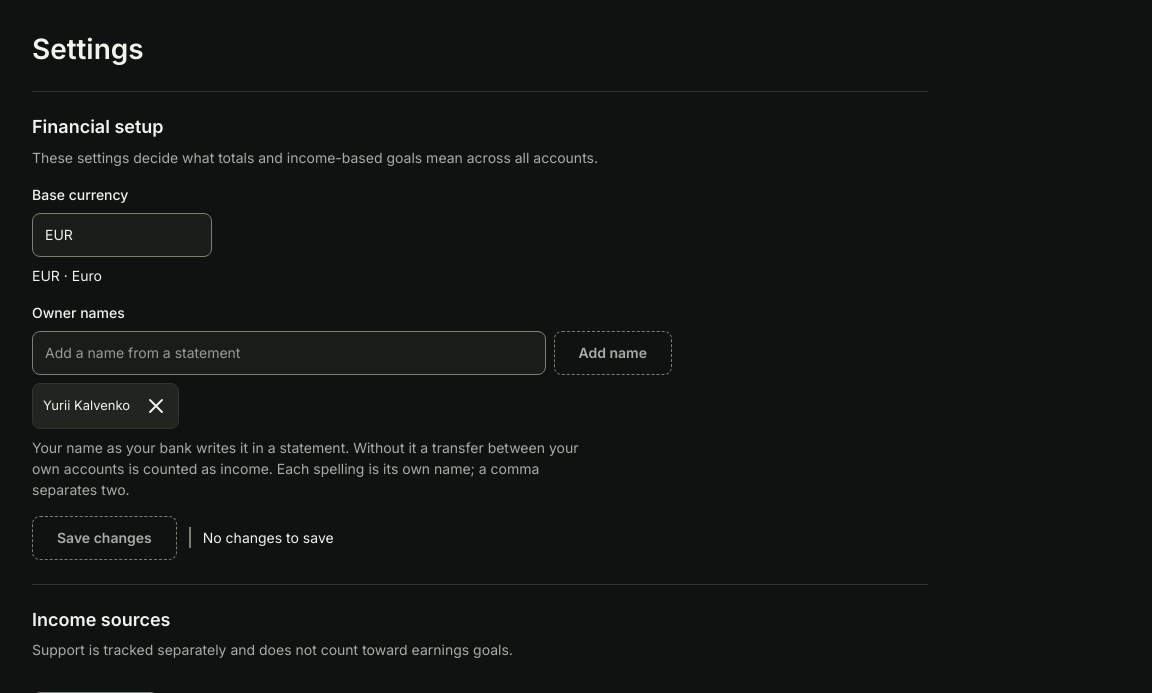
it: financial setup › tells every other reader once the server reclassified, and not after a refusal
Type "Ana Lee" into the field labelled "Owner names" at {"x": 289, "y": 352}, box top-left (32, 330), bottom-right (546, 374)
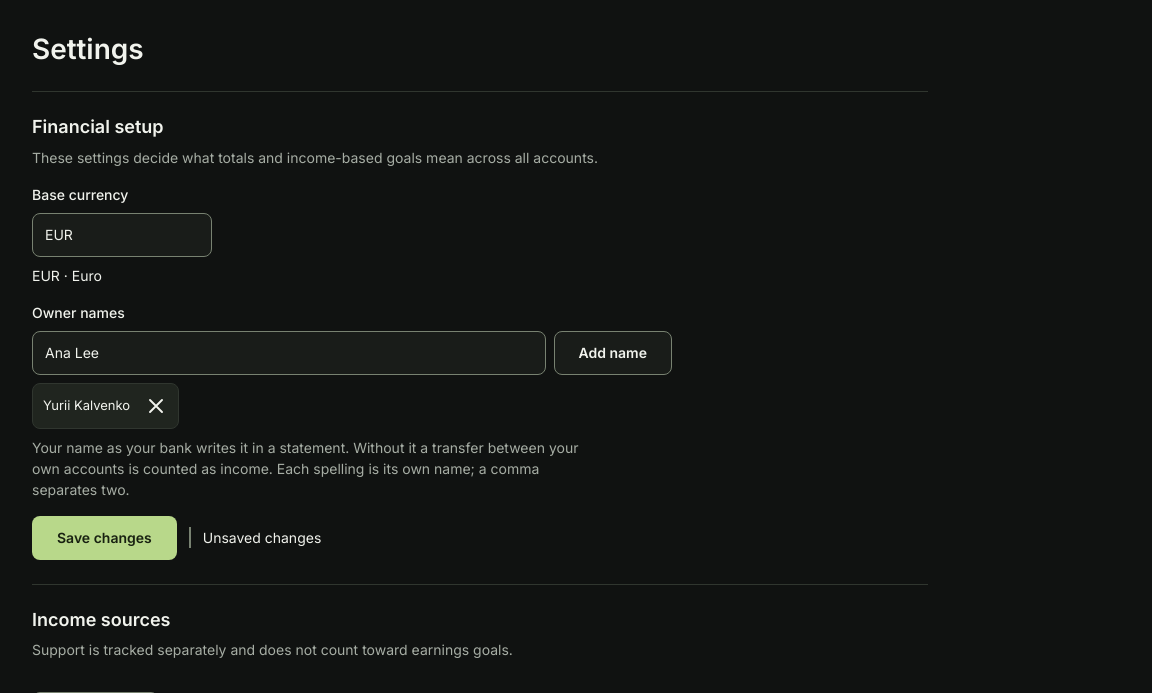
Click the button "Save changes" at {"x": 104, "y": 538}, box top-left (32, 516), bottom-right (177, 560)
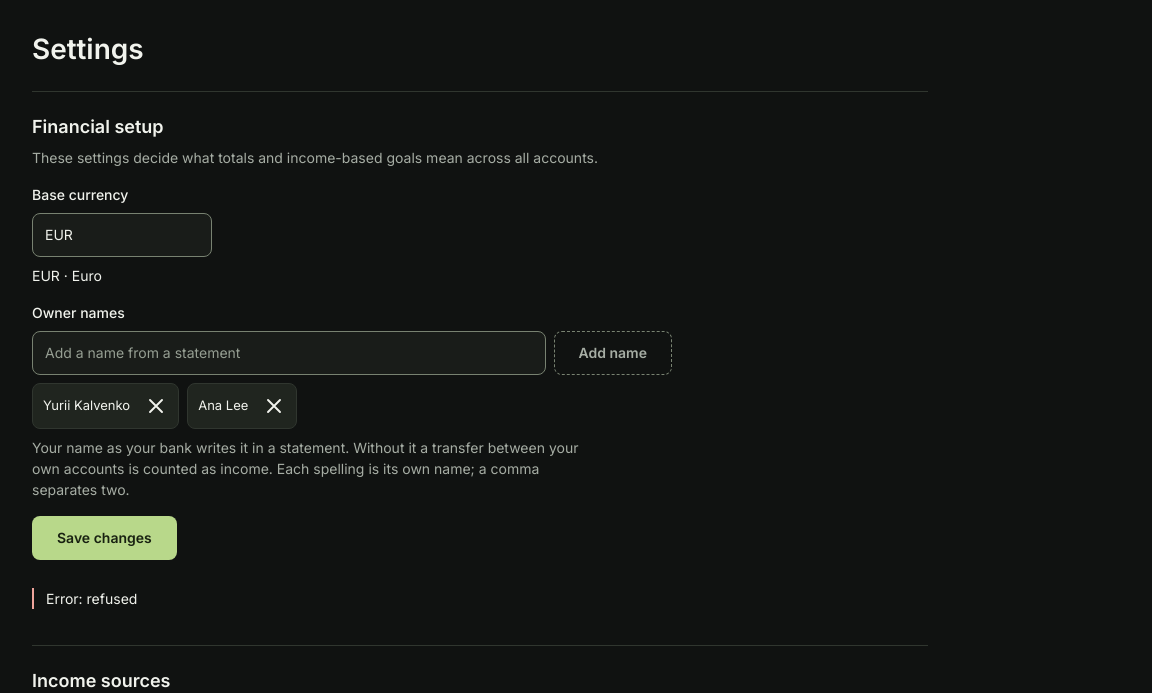
Expected: the text "Error: refused" is shown, top-left (46, 590), bottom-right (137, 606)
Click the button "Save changes" at {"x": 104, "y": 538}, box top-left (32, 516), bottom-right (177, 560)
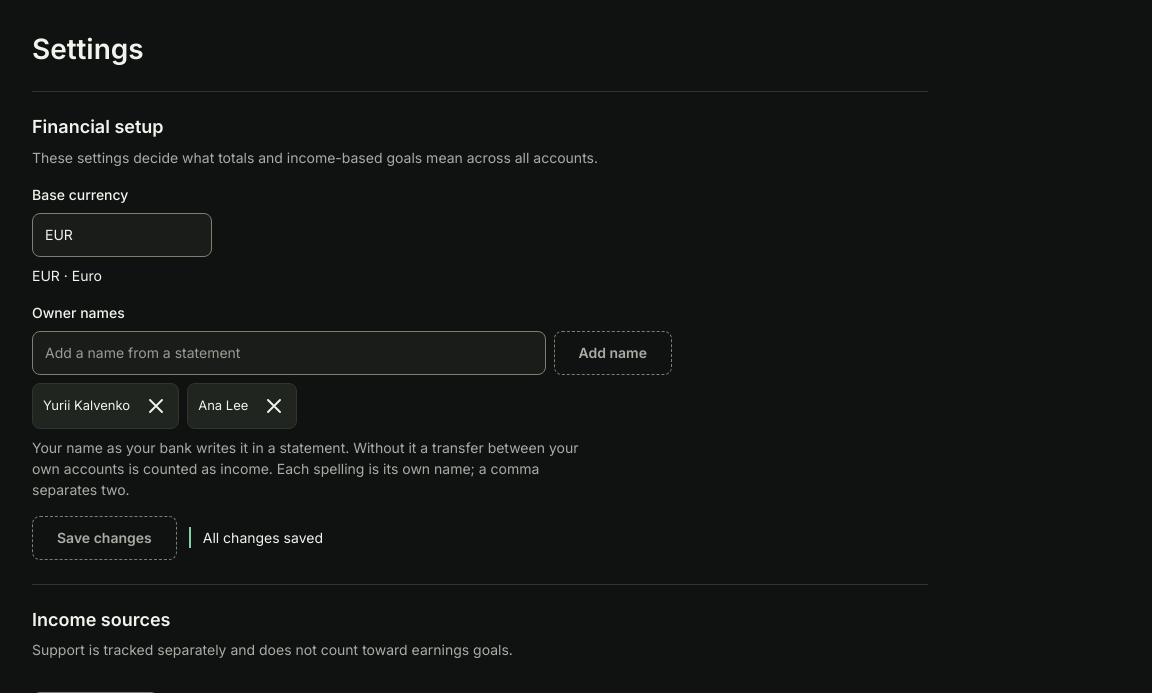
Expected: the text "All changes saved" is shown, top-left (203, 527), bottom-right (323, 548)
